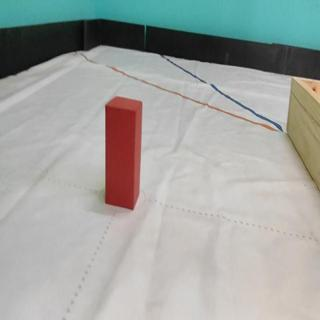redbox: (103, 95, 142, 210)
